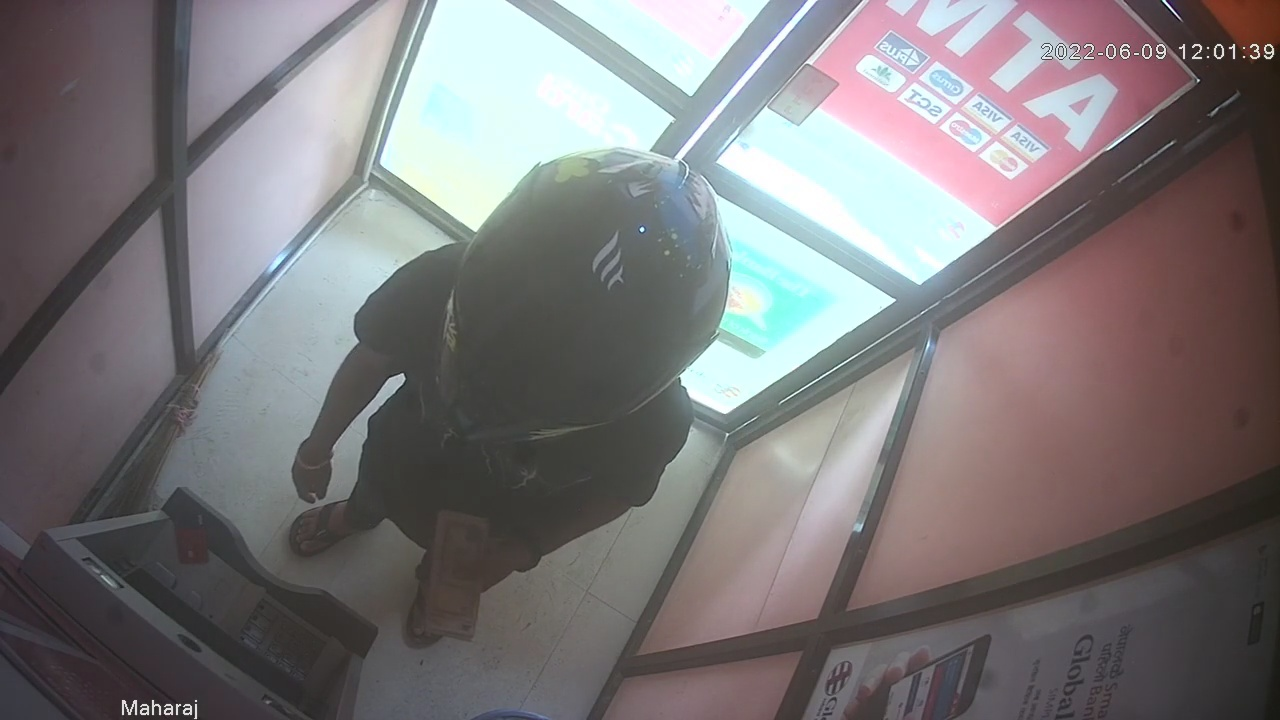helmet: (435, 145, 729, 439)
person: (288, 146, 731, 652)
